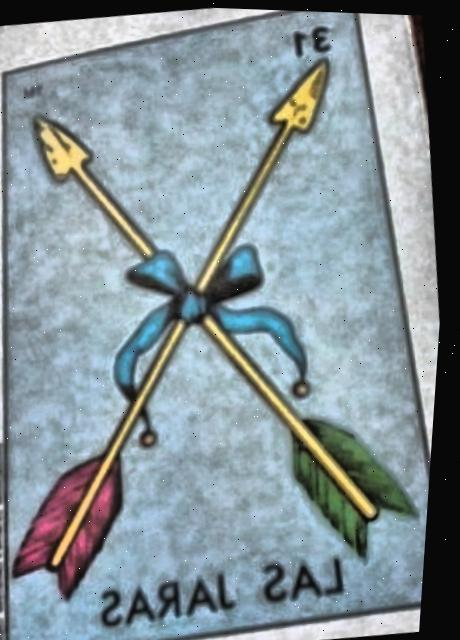Las Jaras: (7, 8, 436, 640)
